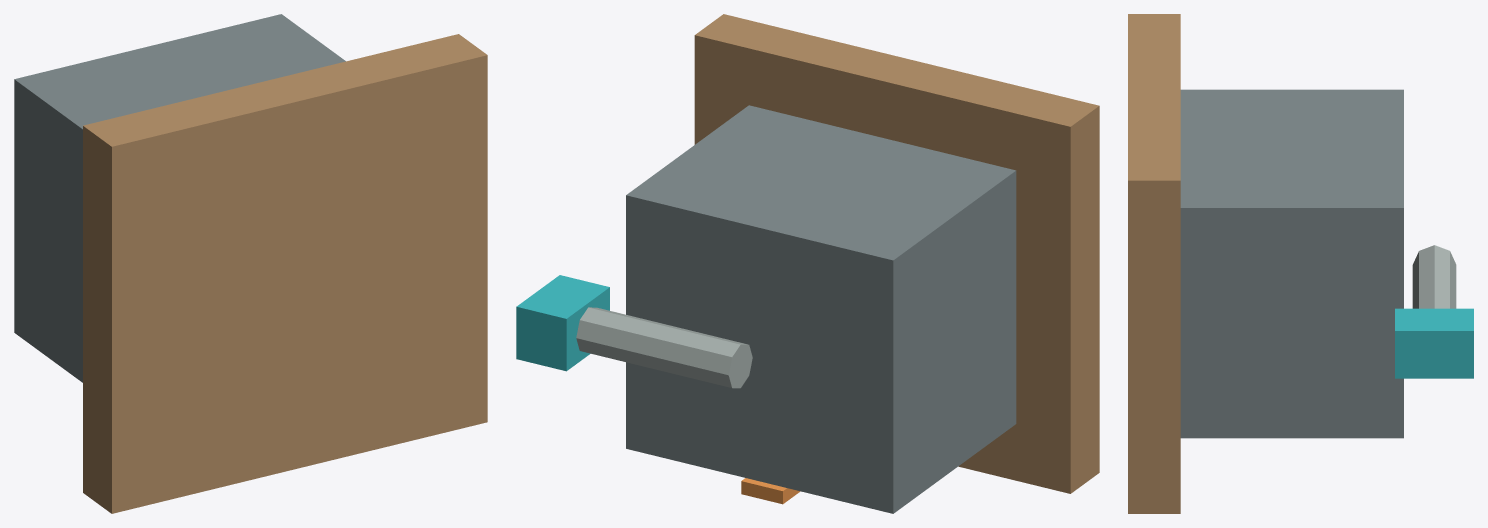
Rendered from repair_station.glb.
3 views of the same model, side by side, from view 1: azimuth 30°, elevation 25°; view 2: azimuth 150°, elevation 25°; view 3: azimuth 270°, elevation 25° (orthographic). The views are drawn at different scales.
Parts seen in each view (by area): view 1: foundation, body; view 2: body, foundation, arm, welder, cross_v; view 3: body, foundation, welder, arm.
Part boxes in pixels (x1,y1,x2,y2): foundation: (83, 34, 487, 513); body: (14, 14, 345, 382); body: (626, 105, 1016, 513); foundation: (694, 14, 1099, 493); arm: (576, 307, 752, 388); welder: (516, 275, 609, 371); cross_v: (741, 478, 800, 504); body: (1180, 89, 1403, 438); foundation: (1128, 14, 1180, 513); welder: (1395, 308, 1473, 378); arm: (1412, 245, 1456, 308).
Bounding box in the file's own units: 0.94 × 0.84 × 0.79.
